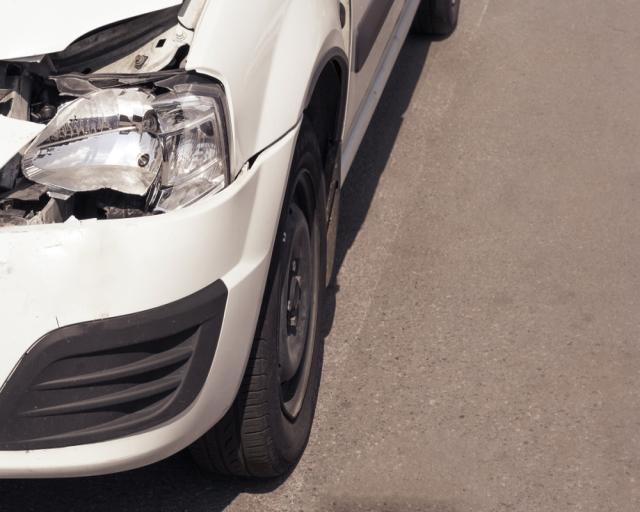lamp broken: (0, 73, 231, 226)
